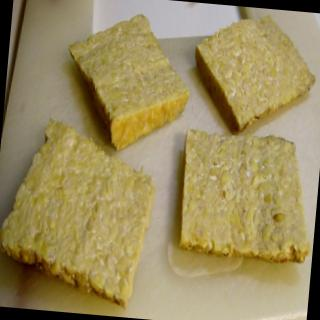Tempe: (1, 111, 158, 317), (176, 126, 313, 270), (66, 8, 195, 155), (191, 10, 320, 141)
